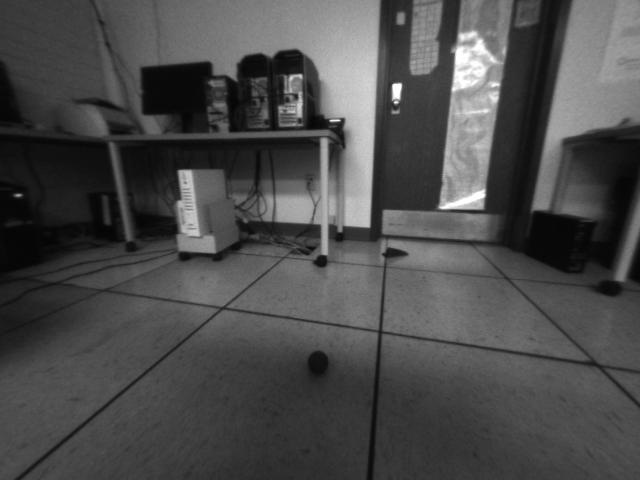dogtoy: (301, 345, 334, 377)
